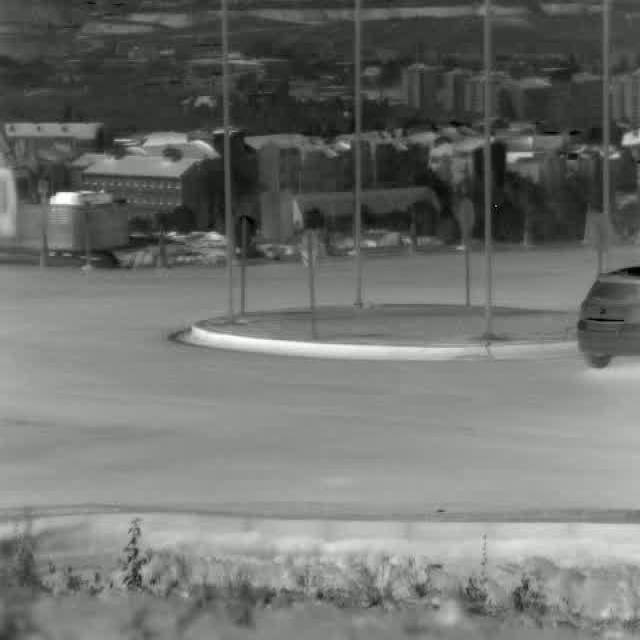Car: (580, 262, 640, 370)
